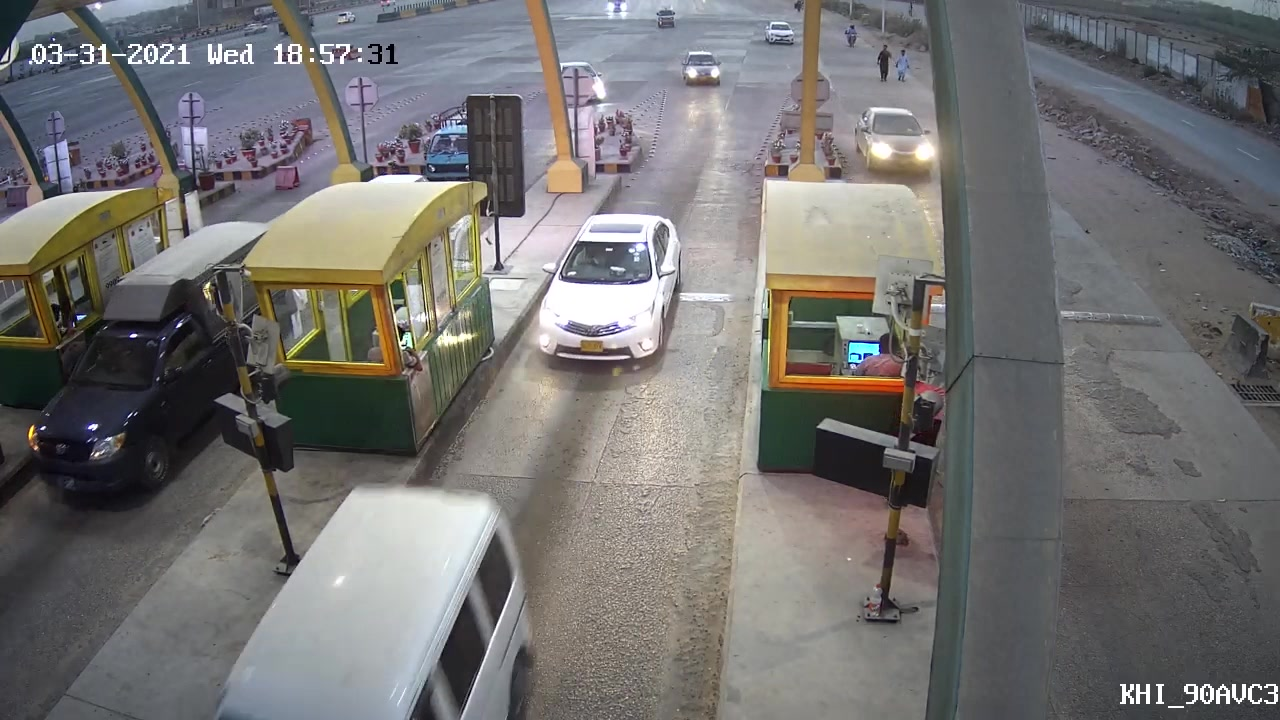F1: (531, 207, 684, 376)
